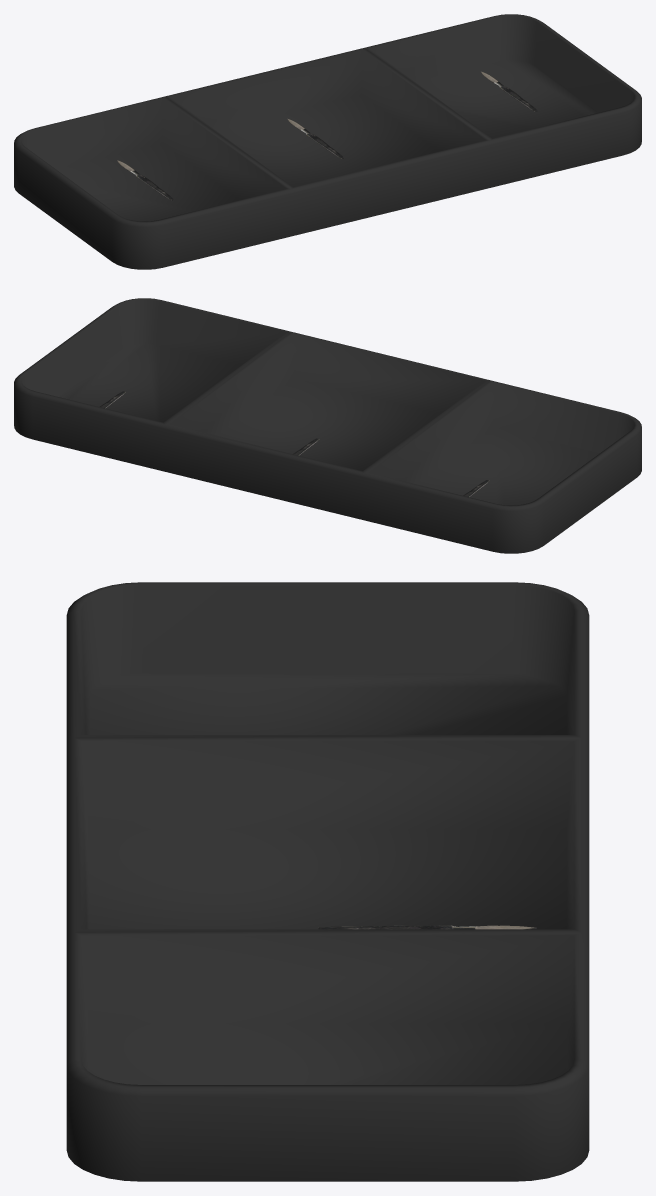
Rendered from fullDisposables.FBX.
3 renders of one model, top to bottom at view 1: azimuth 30°, elevation 25°; view 2: azimuth 150°, elevation 25°; view 3: azimuth 270°, elevation 25°, orthographic. The views are drawn at different scales.
Parts seen in each view (by area): view 1: DisposableBox; view 2: DisposableBox; view 3: DisposableBox, Box004.
Boxes of the visible parts, bbox=[...] form: DisposableBox: bbox=[14, 14, 641, 269]; DisposableBox: bbox=[14, 298, 641, 553]; DisposableBox: bbox=[66, 582, 589, 1181]; Box004: bbox=[318, 925, 536, 929].
Bounding box in the file's own units: 1.46 × 0.1204 × 0.6317.
Materials: 2 (1 with a texture image).
